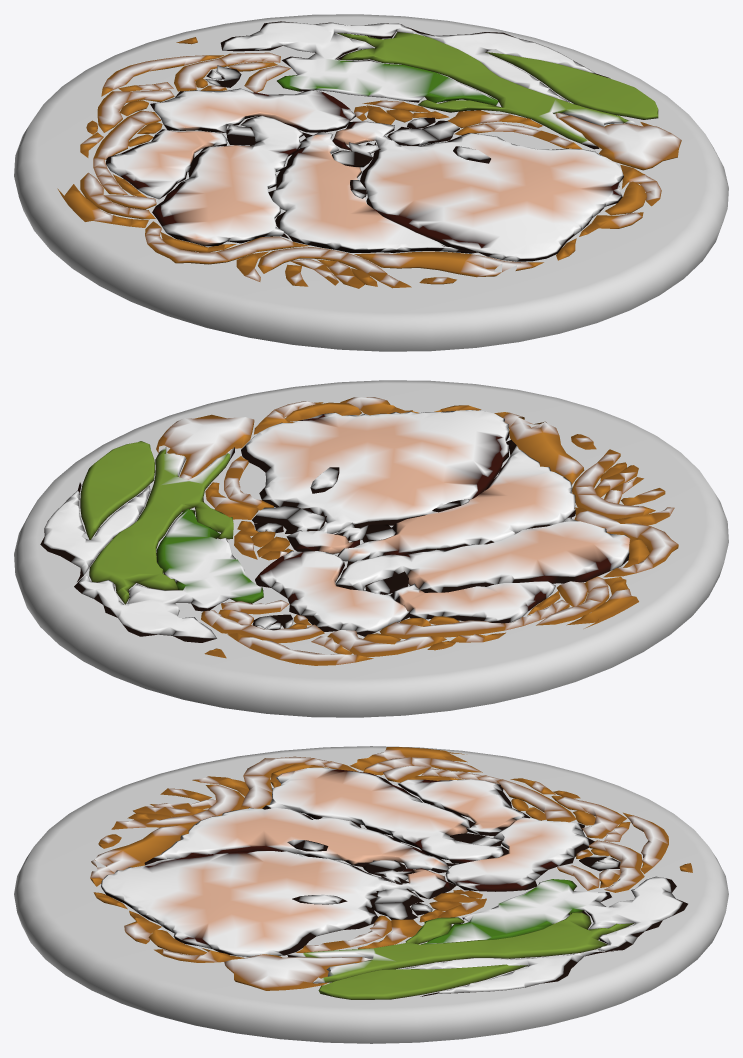
The model's file is SM_D09_wok.fbx.
3 views of the same model, one above another, from view 1: azimuth 30°, elevation 25°; view 2: azimuth 150°, elevation 25°; view 3: azimuth 270°, elevation 25° (orthographic). The views are drawn at different scales.
Visible parts, largest first — view 1: SM_D09_wok; view 2: SM_D09_wok; view 3: SM_D09_wok.
Boxes of the visible parts, x1=… form: SM_D09_wok: x1=14, y1=14, x2=728, y2=351; SM_D09_wok: x1=14, y1=380, x2=728, y2=717; SM_D09_wok: x1=14, y1=746, x2=728, y2=1043.
Size of the model in its own units: 0.158 by 0.0116 by 0.1724.
